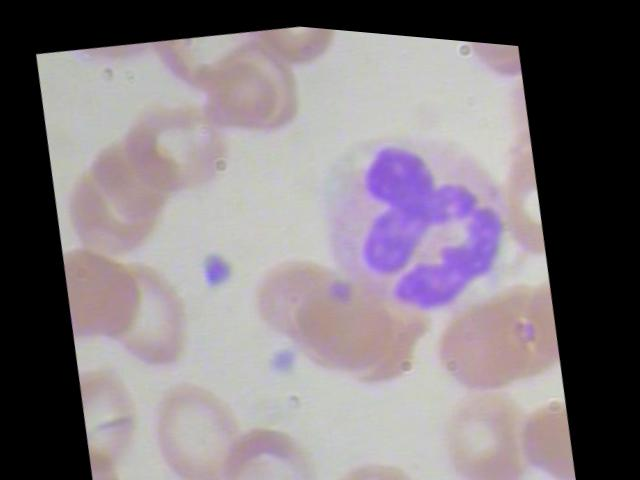Platelets: (196, 239, 244, 288), (259, 332, 307, 381)
Red Blood Cells: (113, 74, 237, 208), (138, 365, 262, 479), (434, 369, 551, 479), (104, 245, 201, 374), (59, 225, 155, 353), (207, 400, 329, 479), (46, 25, 188, 89), (239, 17, 349, 76), (315, 428, 440, 479)
White Blood Cells: (299, 74, 540, 338)
